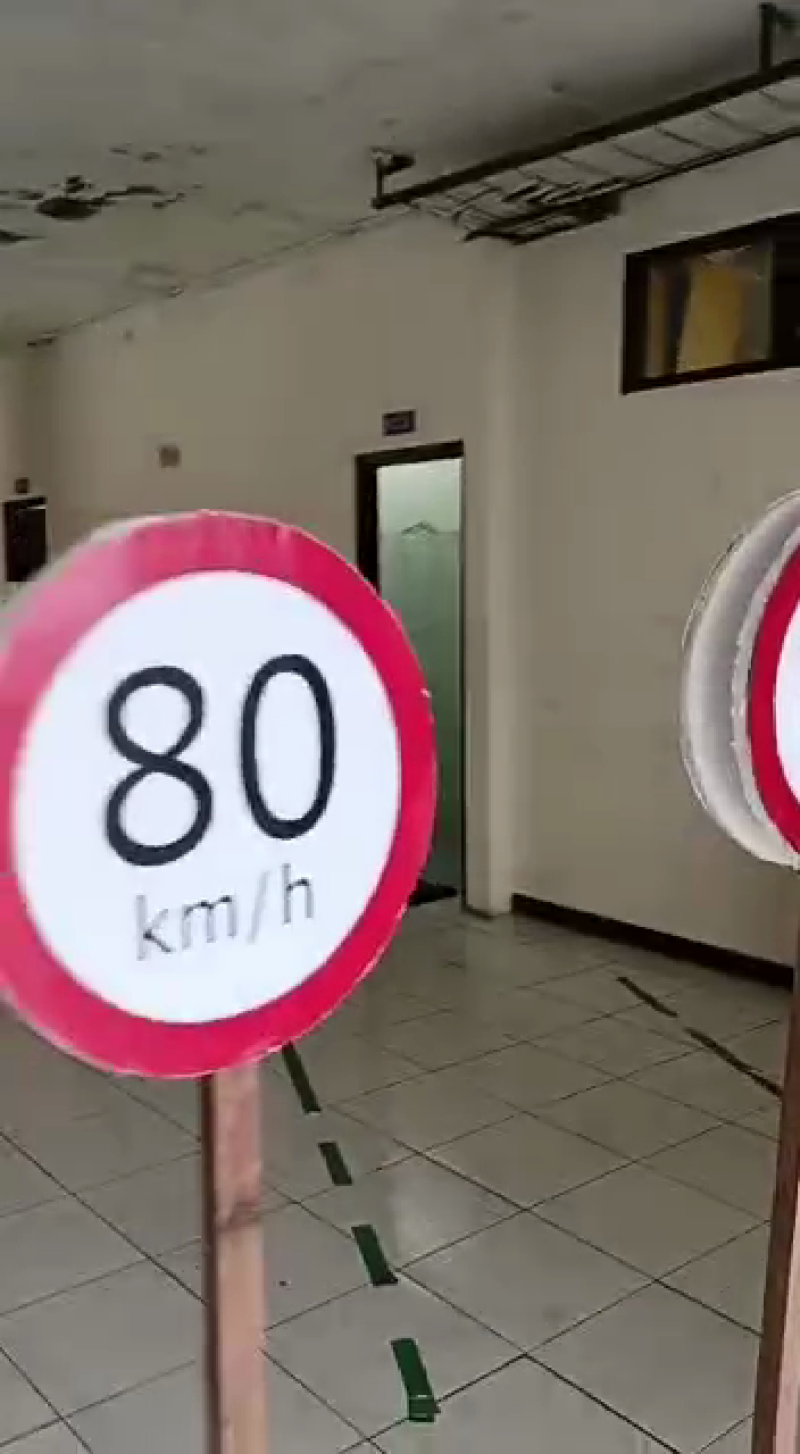batas maksimal 80kmperjam: (1, 479, 439, 1083)
